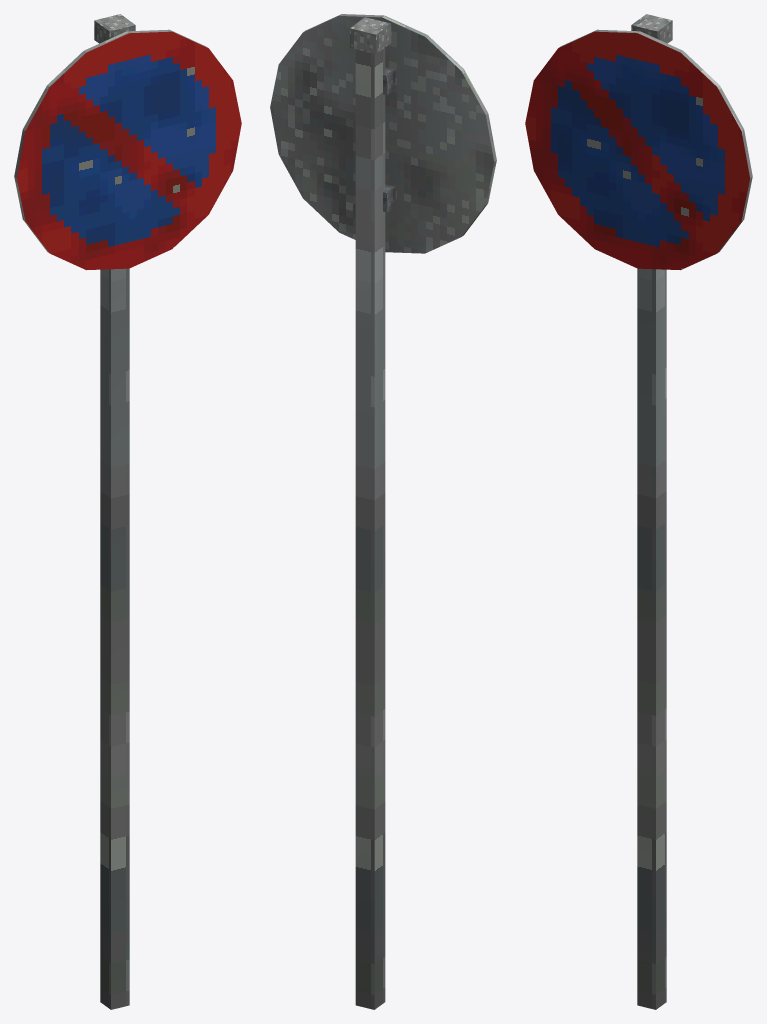
Rendered from sign_no_parking.glb.
The picture shows the model from 3 angles, left to right: view 1: azimuth 30°, elevation 25°; view 2: azimuth 150°, elevation 25°; view 3: azimuth 330°, elevation 25°; orthographic projection.
Parts seen in each view (by area): view 1: sign_no_parking; view 2: sign_no_parking; view 3: sign_no_parking.
Part boxes in pixels (x1,y1,x2,y2): sign_no_parking: (14,14,241,1009); sign_no_parking: (270,14,496,1009); sign_no_parking: (525,14,752,1009).
Bounding box in the file's own units: 0.6 × 2.5 × 0.101.
Materials: 1 (1 with a texture image).
